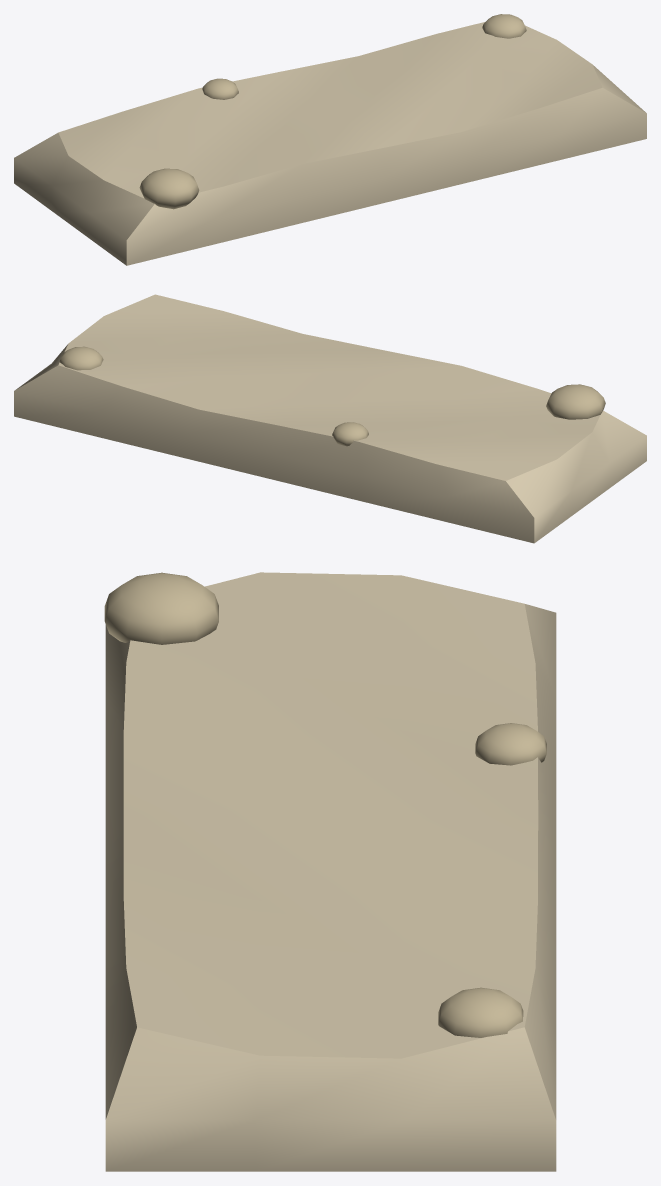
File: bridge_end.glb
3 renders of one model, top to bottom at view 1: azimuth 30°, elevation 25°; view 2: azimuth 150°, elevation 25°; view 3: azimuth 270°, elevation 25°, orthographic. The views are drawn at different scales.
Visible parts, largest first — view 1: bridge_end; view 2: bridge_end; view 3: bridge_end.
Boxes of the visible parts, x1,y1,x2,y2 form: bridge_end: [14, 14, 646, 265]; bridge_end: [14, 294, 646, 543]; bridge_end: [104, 572, 556, 1171].
Bounding box in the file's own units: 3.2 × 0.406 × 1.2.
